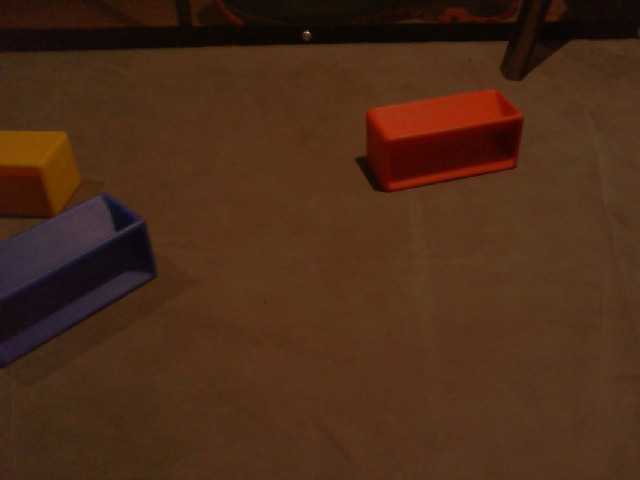BlueSample: (1, 191, 158, 371)
RedSample: (363, 86, 527, 197)
YellowSample: (1, 129, 83, 215)
